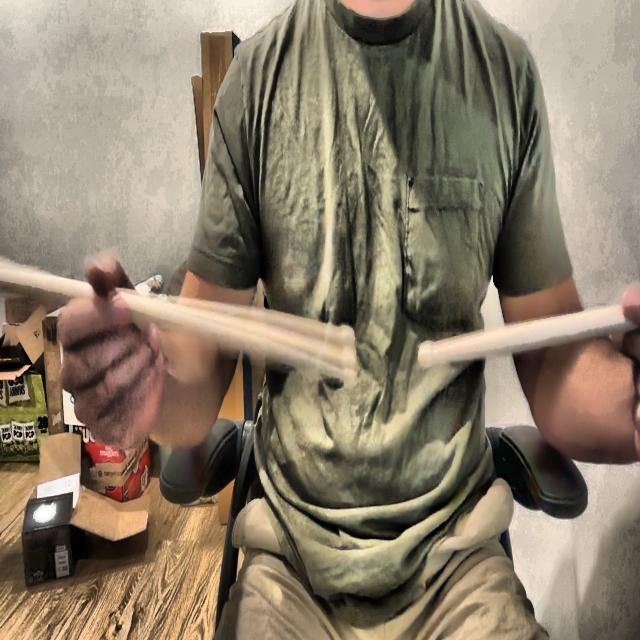Drumstick-Heads: (336, 312, 359, 389), (416, 339, 436, 371)
